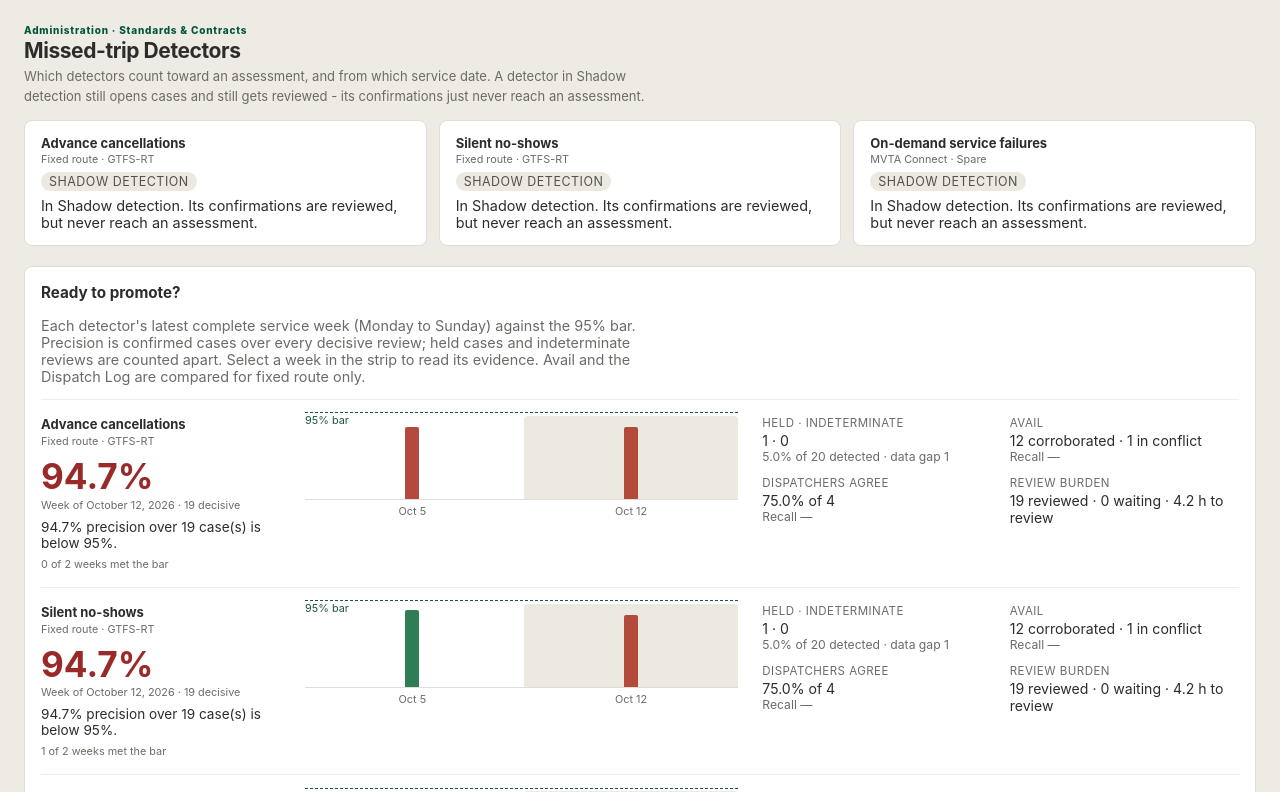
Test: Missed-trip detector promotion › reads another week's evidence from the strip
Click the button named "Week of October 5, 2026: 97.2% of 143. 97.2% precision over" at (412, 645), box [305,604,520,687]
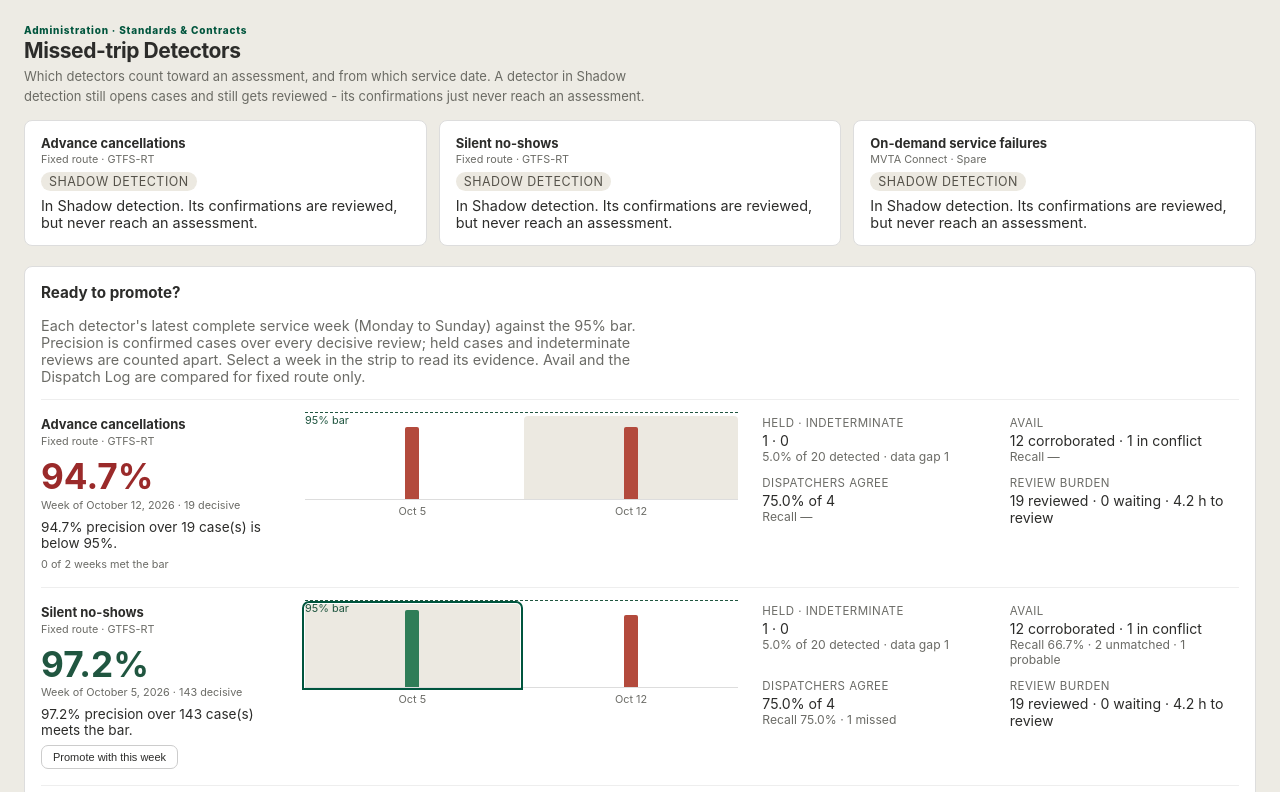
expect the text "97.2%" is shown: met, box [41,643,149,685]
expect the text "Recall 66.7% · 2 unmatched · 1 probable" is shown: met, box [1010,637,1185,667]
expect the text "Recall 75.0% · 1 missed" is shown: met, box [762,712,896,727]
